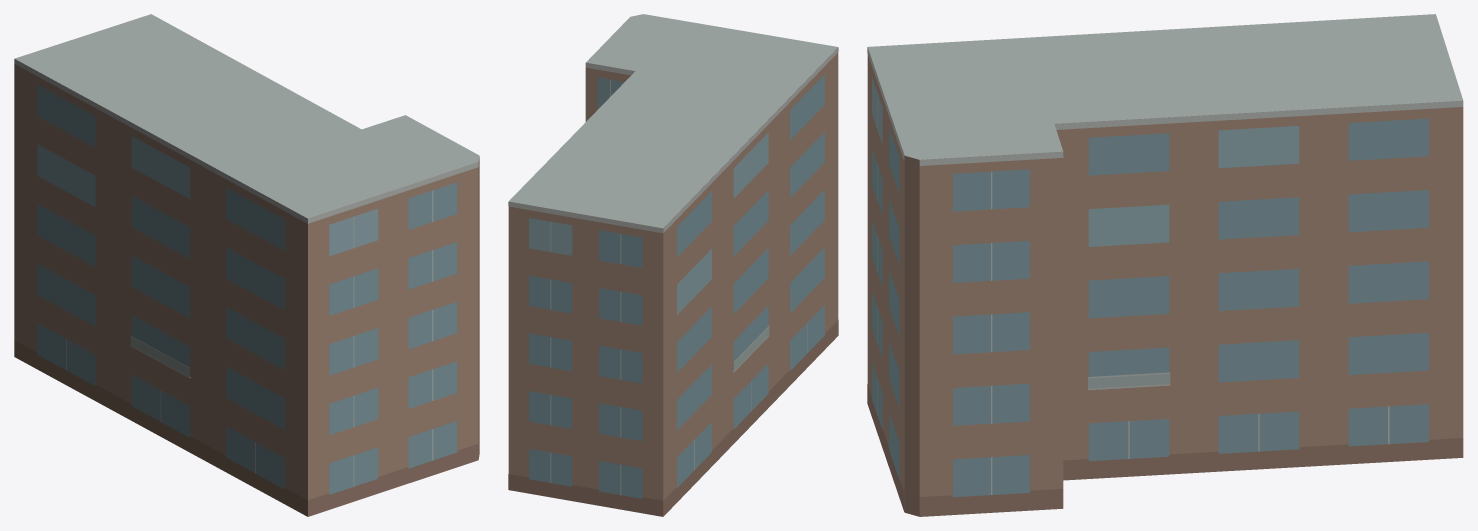
The model's file is survey-upis-32702074.glb.
3 views of the same model, side by side, from view 1: azimuth 30°, elevation 25°; view 2: azimuth 150°, elevation 25°; view 3: azimuth 270°, elevation 25° (orthographic). The views are drawn at different scales.
Parts seen in each view (by area): view 1: survey-upis-32702074.tmp; view 2: survey-upis-32702074.tmp; view 3: survey-upis-32702074.tmp.
Part boxes in pixels (x1,y1,x2,y2): survey-upis-32702074.tmp: [14, 14, 479, 516]; survey-upis-32702074.tmp: [508, 14, 838, 516]; survey-upis-32702074.tmp: [867, 14, 1463, 516].
Size of the model in its own units: 12.36 by 14.1 by 21.34.
